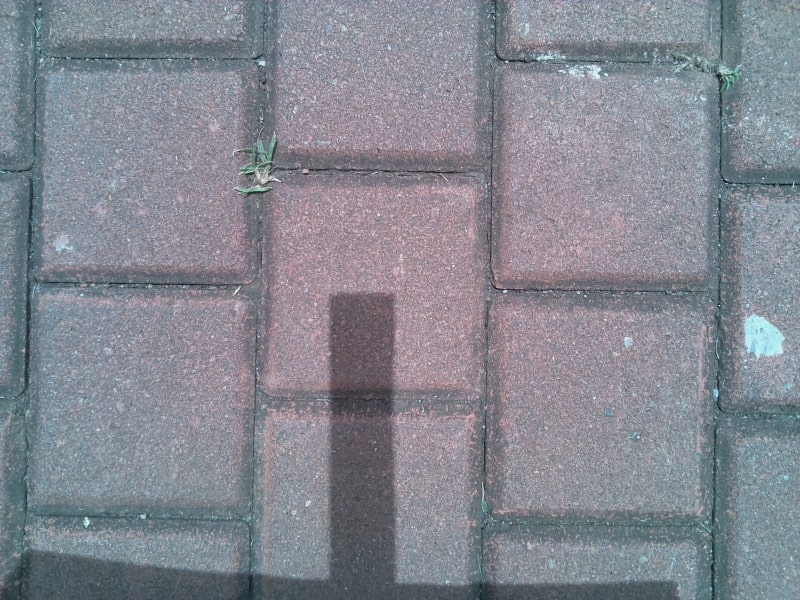Weed: (673, 49, 743, 91), (236, 136, 279, 197)
